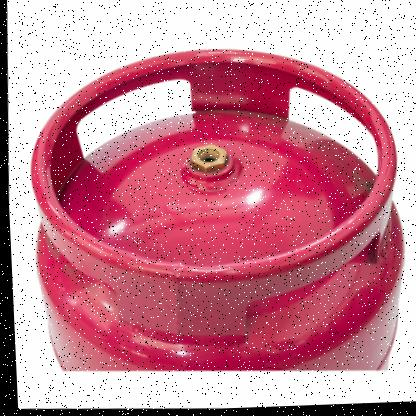gas-tank: (1, 23, 412, 397)
